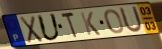K: (79, 11, 102, 36)
O: (103, 8, 125, 35)
T: (60, 11, 79, 40)
U: (36, 13, 63, 42), (118, 5, 144, 34)
X: (19, 15, 45, 45)
